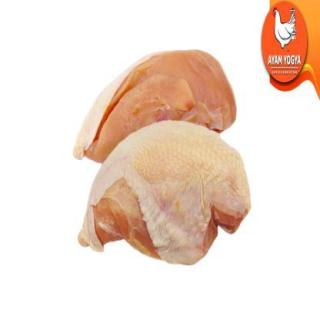Ayam: (79, 123, 251, 264), (74, 50, 240, 166)
